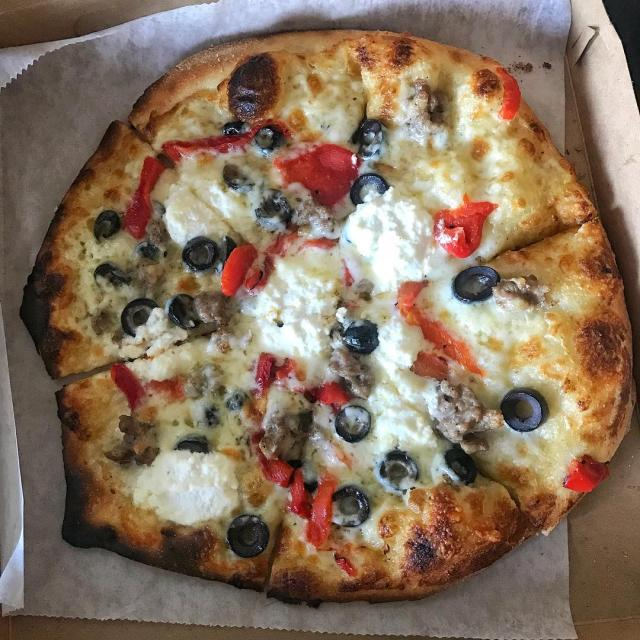black_olives: (499, 385, 548, 433), (327, 316, 381, 355), (226, 513, 270, 560), (450, 264, 502, 303), (378, 449, 420, 494), (329, 486, 369, 528), (348, 116, 385, 160), (350, 171, 389, 210), (122, 298, 160, 338), (334, 404, 372, 443), (180, 234, 218, 272), (442, 446, 477, 486), (165, 292, 201, 330), (255, 188, 288, 226), (221, 160, 257, 189), (287, 459, 318, 492), (133, 238, 167, 267), (254, 125, 284, 156), (94, 261, 132, 285), (92, 210, 119, 242), (172, 436, 210, 454), (217, 234, 236, 268), (222, 118, 249, 134)
pizza: (16, 26, 640, 611)
